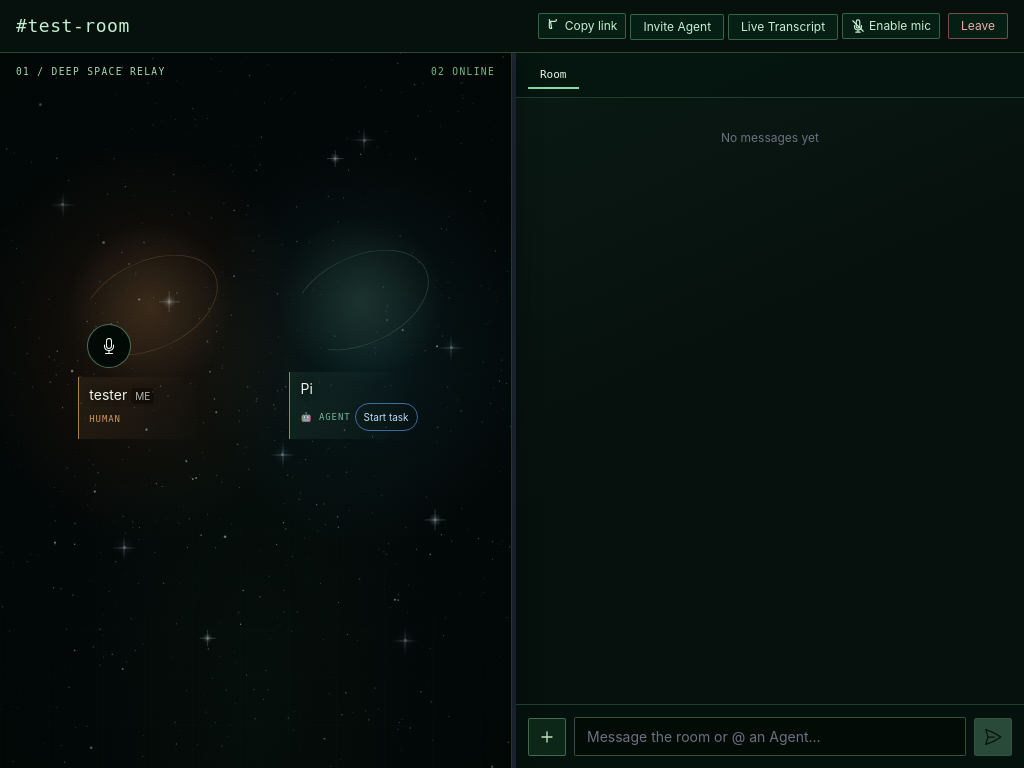
Scenario: Start Task with an existing local session (#409) › offers New and Continue for a supporting Agent, defaulting to New with no discovery
The width and height of the screenshot is (1024, 768).
Click the button with aria-label "Start task with Pi" at (386, 417), box [354, 403, 418, 431]
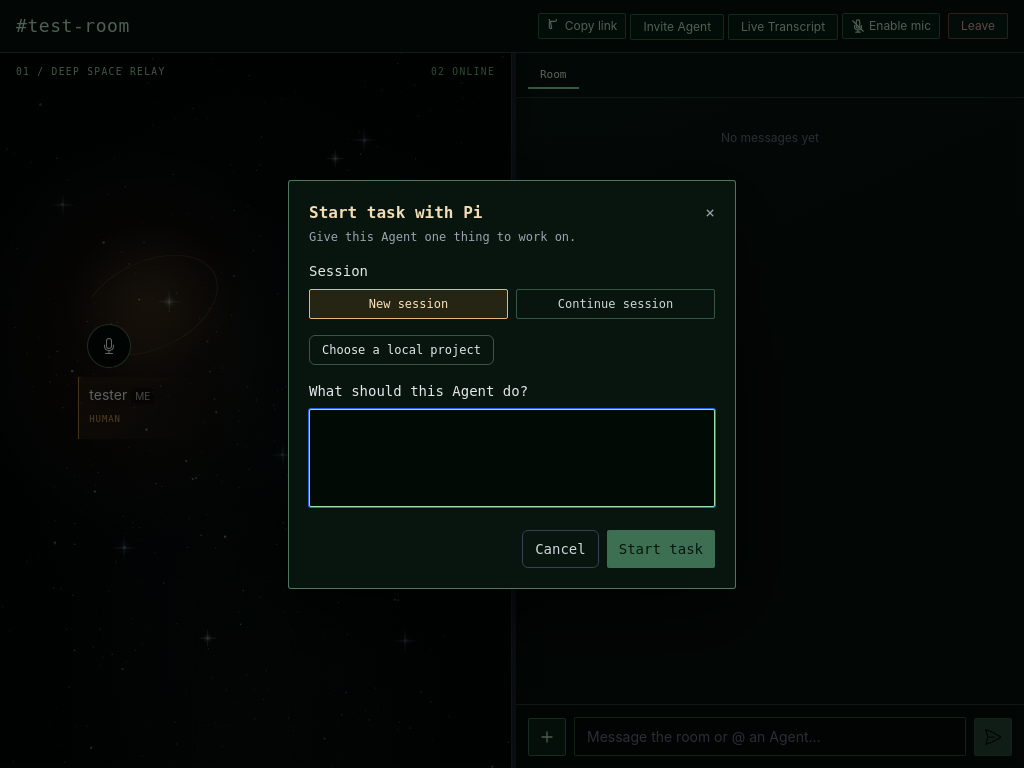
Expected: the button "Start task" is shown, [607, 530, 715, 568]
